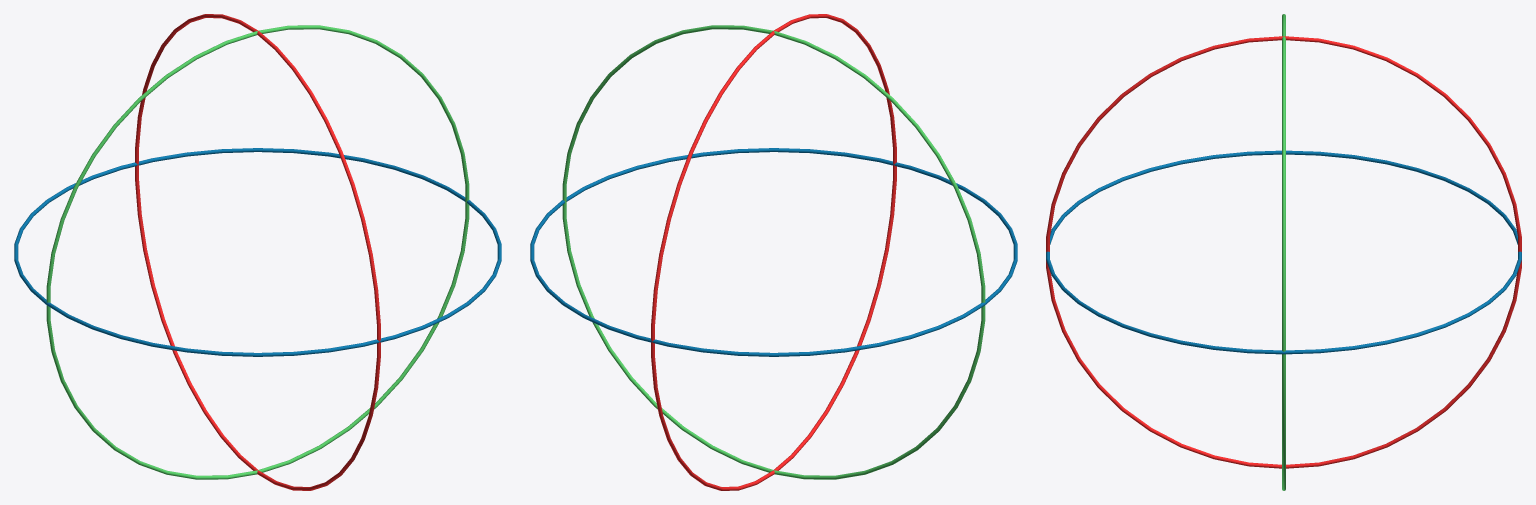
Rendered from Rotate.fbx.
3 views of the same model, side by side, from view 1: azimuth 30°, elevation 25°; view 2: azimuth 150°, elevation 25°; view 3: azimuth 270°, elevation 25° (orthographic). The views are drawn at different scales.
Parts seen in each view (by area): view 1: Y_Axis, X_Axis, Z_Axis; view 2: Y_Axis, X_Axis, Z_Axis; view 3: X_Axis, Z_Axis, Y_Axis.
Part boxes in pixels (x1,y1,x2,y2): Y_Axis: (46, 25, 469, 479); X_Axis: (135, 14, 380, 490); Z_Axis: (14, 148, 501, 356); Y_Axis: (562, 25, 985, 479); X_Axis: (651, 14, 896, 490); Z_Axis: (530, 148, 1017, 356); X_Axis: (1046, 36, 1521, 468); Z_Axis: (1046, 150, 1521, 354); Y_Axis: (1282, 14, 1285, 490).
Size of the model in its own units: 121 by 121 by 121.
